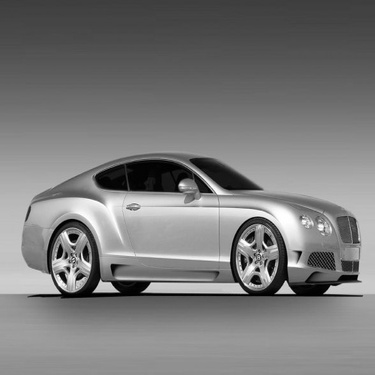car: (13, 148, 366, 298)
